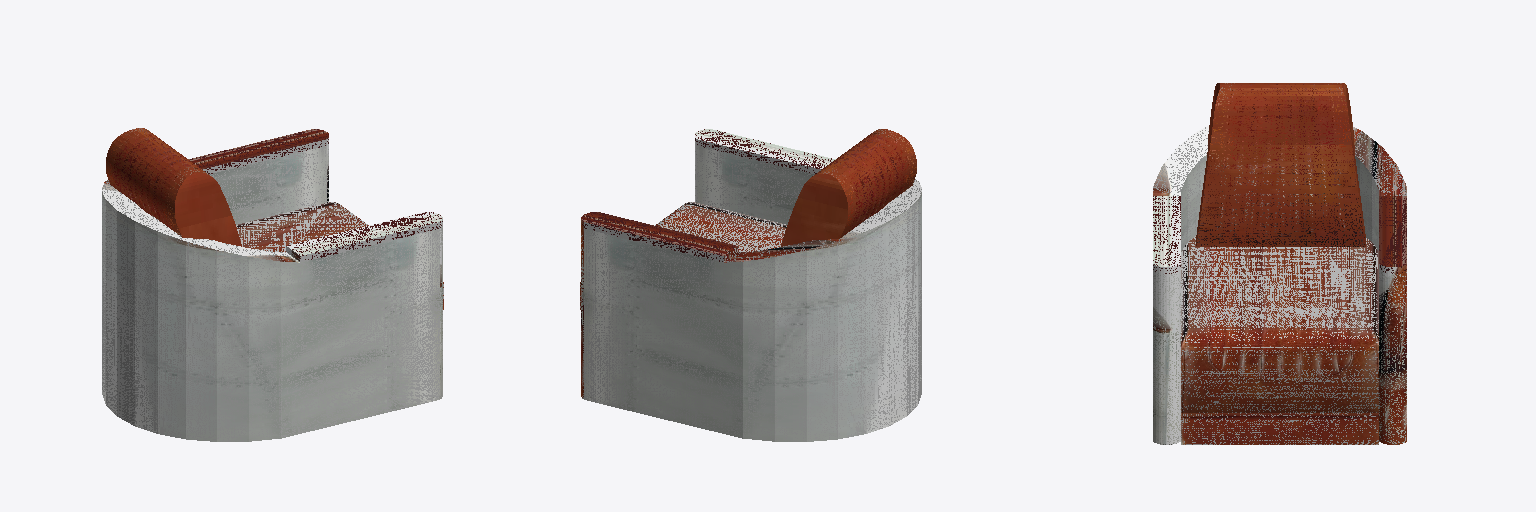
The picture shows the model from 3 angles: view 1: azimuth 30°, elevation 25°; view 2: azimuth 150°, elevation 25°; view 3: azimuth 270°, elevation 25°; orthographic projection.
Visible parts, largest first — view 1: mesh2_mesh2-geometry, mesh1_mesh1-geometry; view 2: mesh2_mesh2-geometry, mesh1_mesh1-geometry; view 3: mesh2_mesh2-geometry, mesh1_mesh1-geometry.
Boxes of the visible parts, <box> form: mesh2_mesh2-geometry: <box>102,129,443,441</box>; mesh1_mesh1-geometry: <box>106,128,241,246</box>; mesh2_mesh2-geometry: <box>580,129,921,441</box>; mesh1_mesh1-geometry: <box>781,129,916,246</box>; mesh2_mesh2-geometry: <box>1153,126,1406,444</box>; mesh1_mesh1-geometry: <box>1196,83,1365,246</box>.
Size of the model in its own units: 0.6469 by 0.5639 by 0.5133.
6 materials, 3 textured.